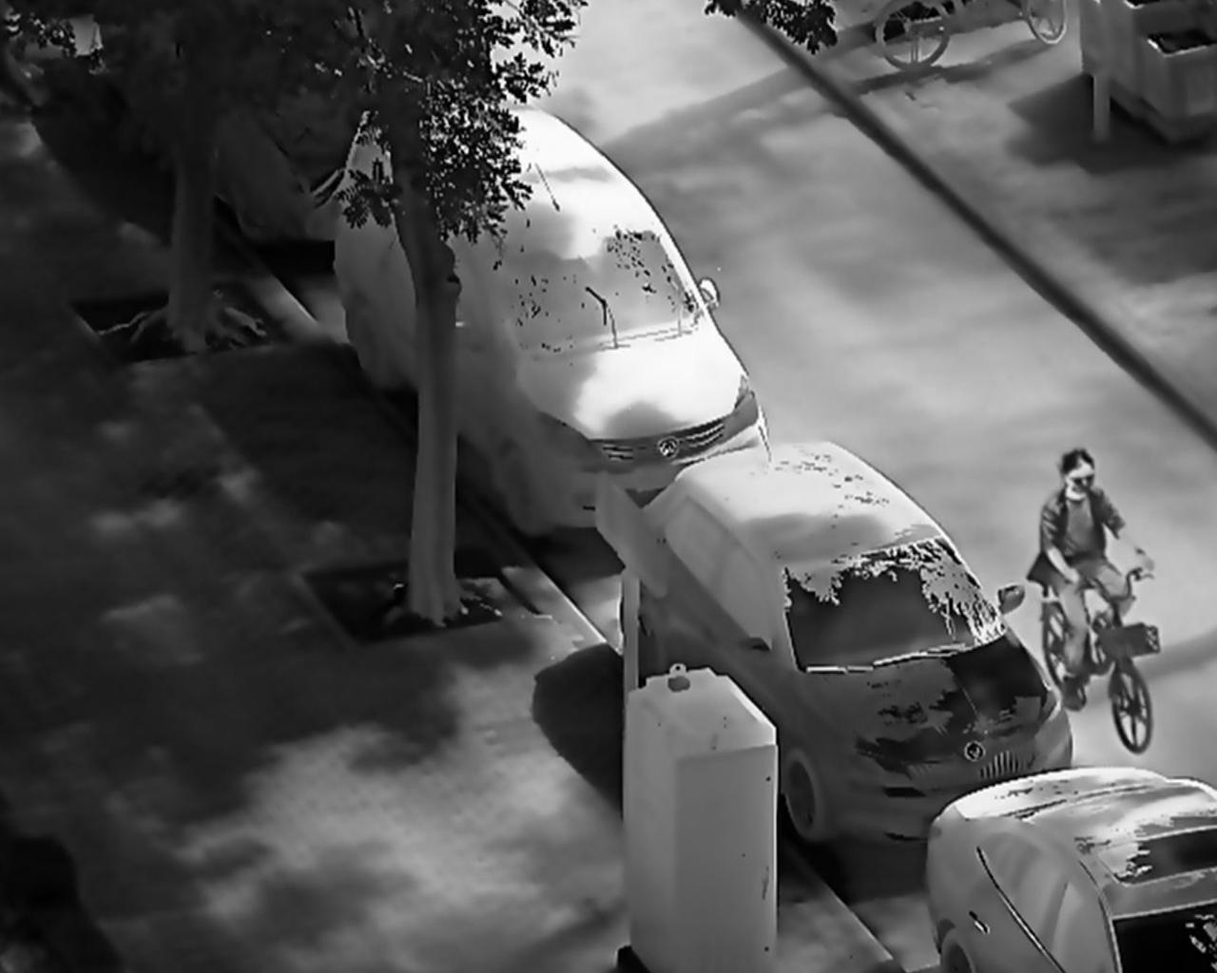person: (1033, 446, 1165, 714)
